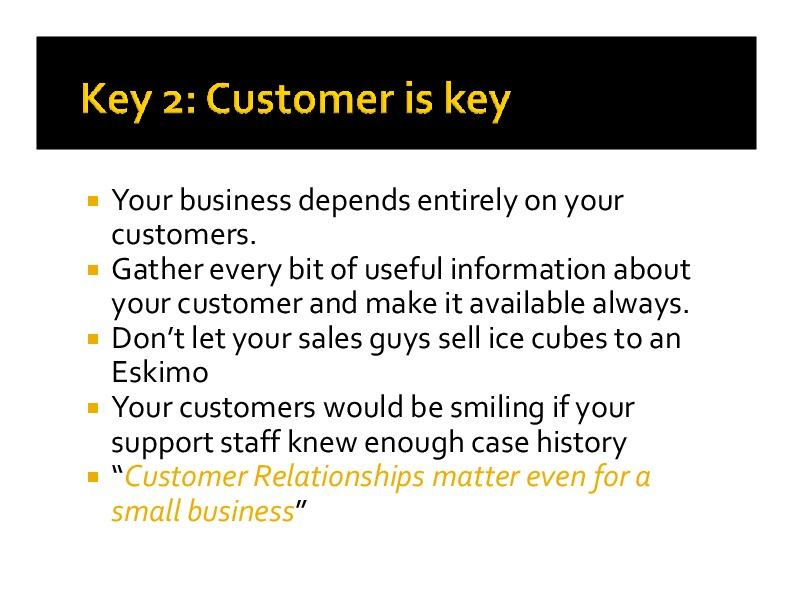paragraph: (103, 165, 707, 559)
title: (72, 68, 523, 133)
